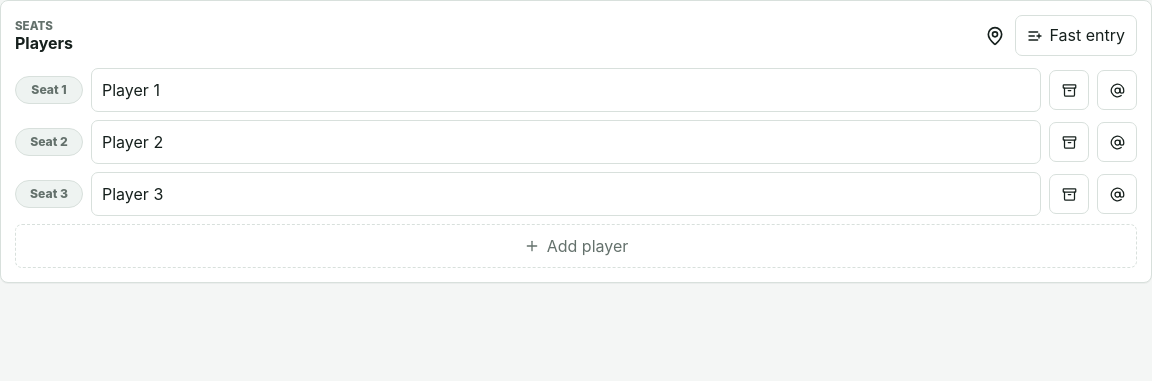
Scenario: PlayerDrawer › opens fast entry empty for a default roster and cancels back to player rows
Click the button "Fast entry". click: [1076, 36]
box: x1=1014 y1=15 x2=1137 y2=56
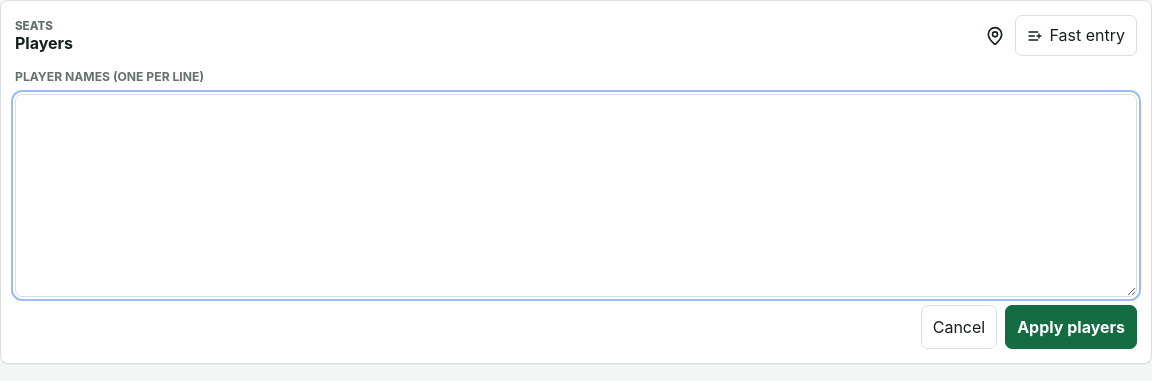
Check: the text box labelled "Player names (one per line)" is empty, box x1=15 y1=94 x2=1137 y2=297
Click the button "Cancel". click: [959, 327]
box: x1=921 y1=305 x2=997 y2=349
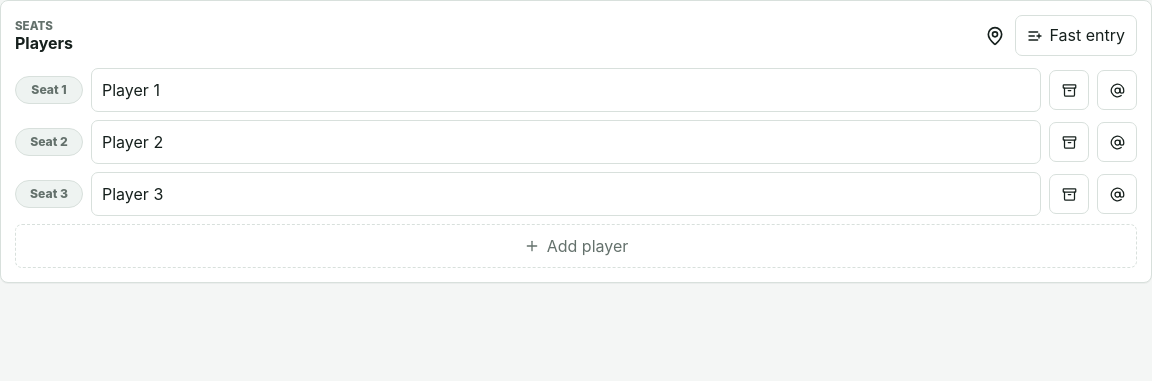
Check: the text labelled "Player names (one per line)" is gone
Check: the number of fields named "Player name" is 3, box x1=91 y1=68 x2=1041 y2=112; x1=91 y1=120 x2=1041 y2=164; x1=91 y1=172 x2=1041 y2=216
